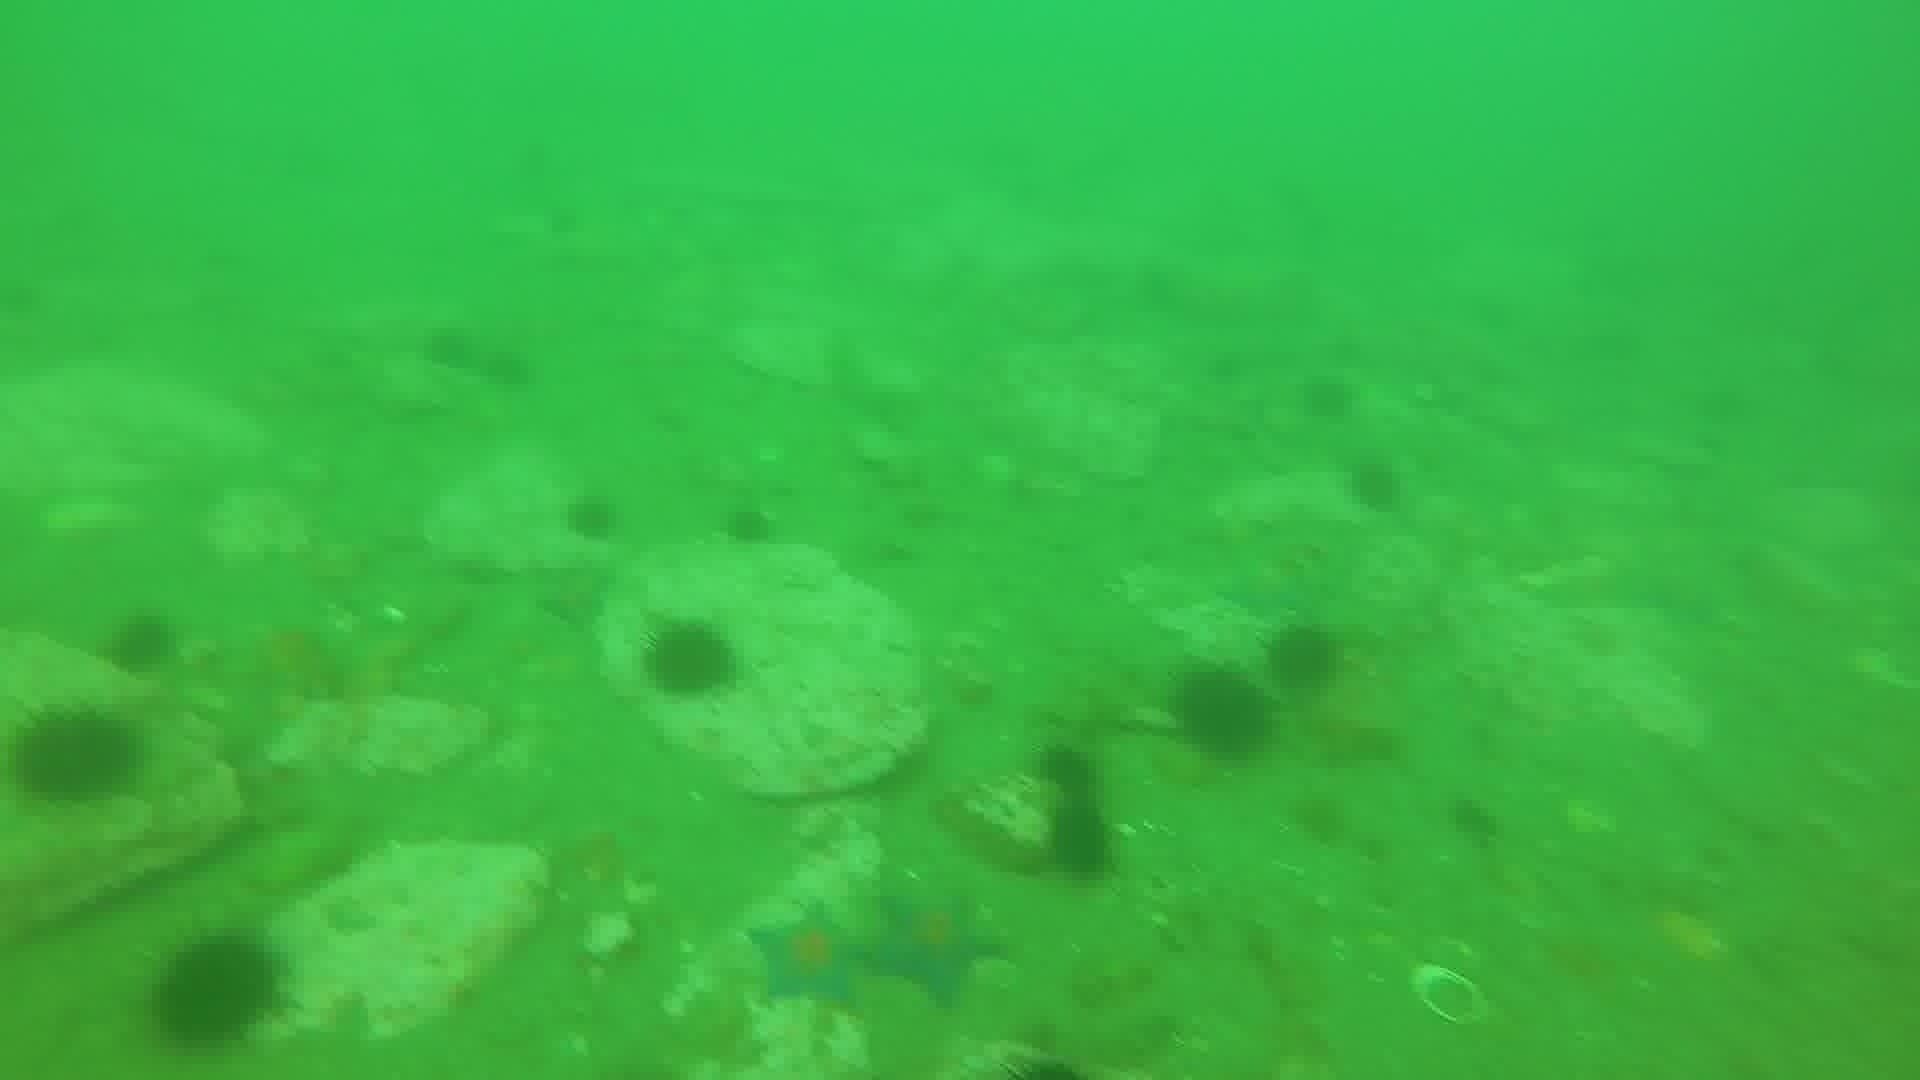echinus: (146, 928, 284, 1051), (11, 704, 142, 808), (1168, 665, 1276, 764), (640, 620, 738, 704), (1042, 800, 1120, 882), (1262, 620, 1345, 696), (102, 611, 179, 680), (1031, 740, 1105, 804), (1342, 455, 1408, 516), (1288, 791, 1352, 851), (417, 322, 481, 378), (1295, 371, 1361, 425), (560, 491, 622, 546), (1445, 794, 1505, 851), (717, 500, 779, 553), (477, 342, 537, 396)
starfish: (862, 884, 1004, 1007), (744, 905, 872, 1015), (533, 560, 618, 633), (1212, 559, 1309, 621)
